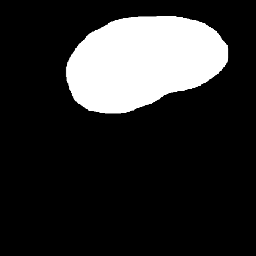mass: (75, 40, 212, 111)
